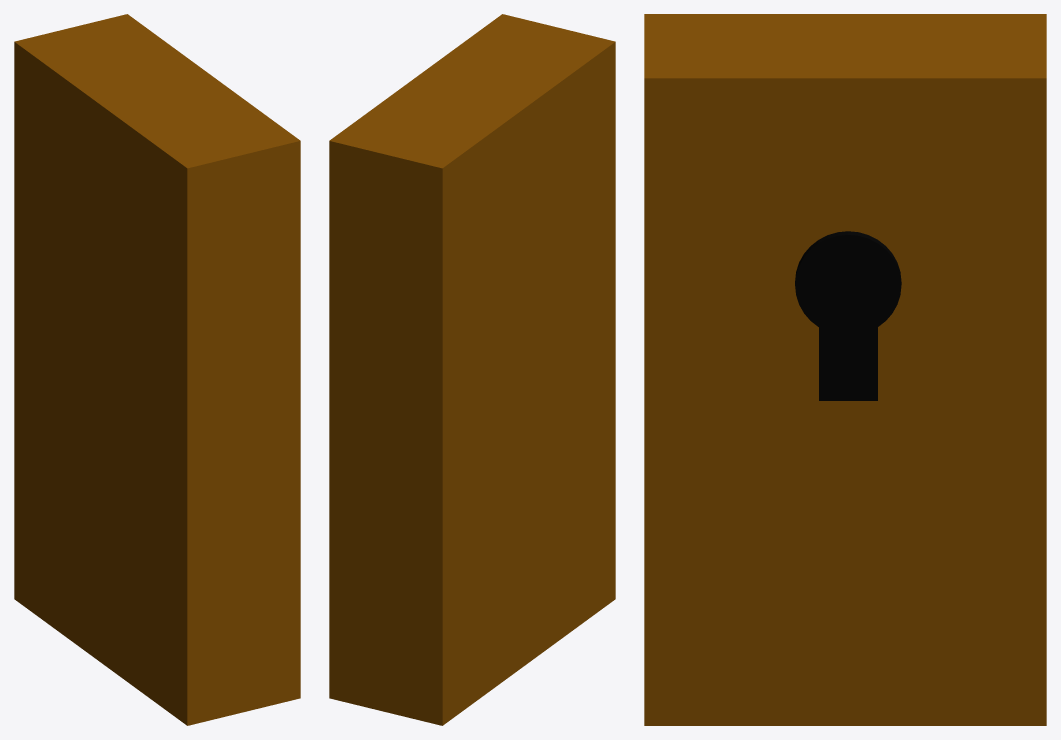
The model's file is KeyDoor.fbx.
The picture shows the model from 3 angles, left to right: view 1: azimuth 30°, elevation 25°; view 2: azimuth 150°, elevation 25°; view 3: azimuth 270°, elevation 25°; orthographic projection. The views are drawn at different scales.
Visible parts, largest first — view 1: Cube; view 2: Cube; view 3: Cube, Cylinder, Cube.001.
Boxes of the visible parts, <box> form: Cube: <box>14,14,300,725</box>; Cube: <box>329,14,615,725</box>; Cube: <box>644,14,1046,725</box>; Cylinder: <box>795,231,901,335</box>; Cube.001: <box>819,327,877,400</box>.
Bounding box in the file's own units: 499 × 2222 × 1252.
